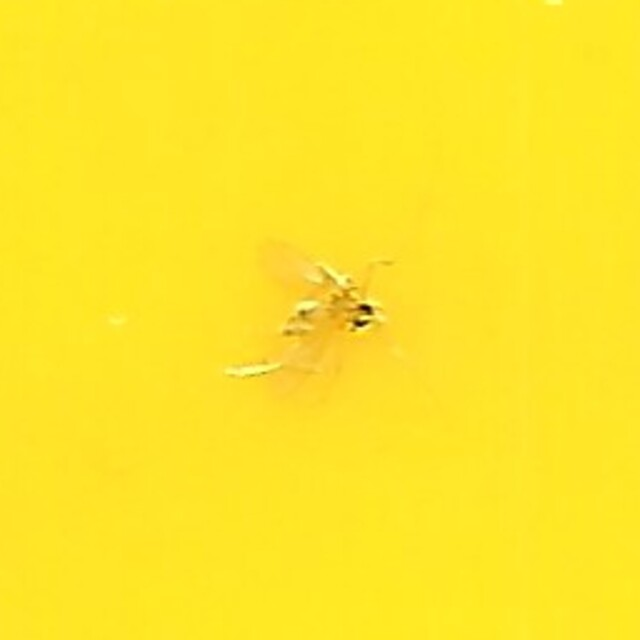Nematocera: (250, 235, 390, 405)
